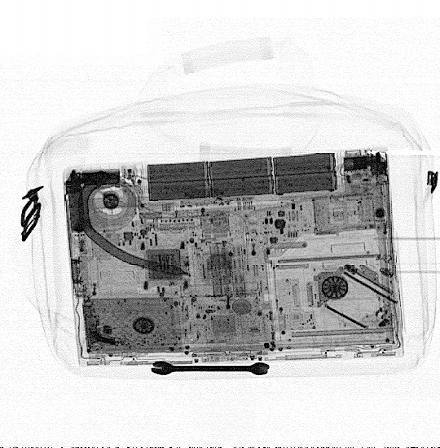Wrench: (150, 360, 273, 377)
